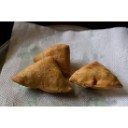samosa: (13, 56, 71, 92), (72, 62, 122, 89)
